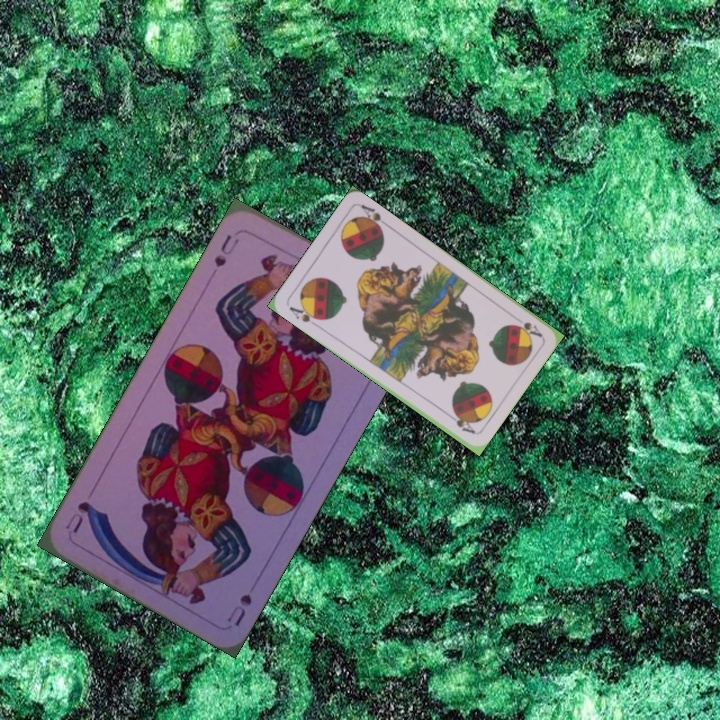SA: (285, 301, 324, 325), (510, 318, 545, 340)
SU: (222, 589, 255, 629), (210, 230, 242, 270)
